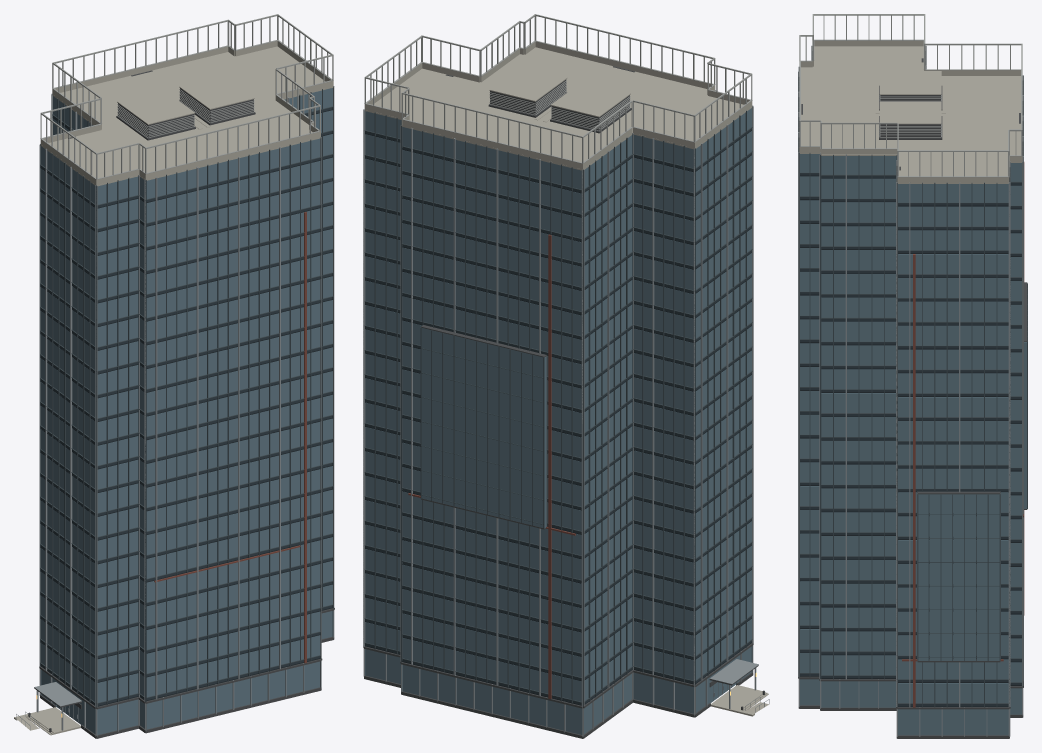
The model's file is building-t2-lod1.glb.
3 renders of one model, left to right at view 1: azimuth 30°, elevation 25°; view 2: azimuth 150°, elevation 25°; view 3: azimuth 270°, elevation 25°, orthographic. The views are drawn at different scales.
Visible parts, largest first — view 1: building-t2_MATERIAL_BATCH; view 2: building-t2_MATERIAL_BATCH; view 3: building-t2_MATERIAL_BATCH.
Boxes of the visible parts, x1=… form: building-t2_MATERIAL_BATCH: x1=14, y1=14, x2=334, y2=738; building-t2_MATERIAL_BATCH: x1=363, y1=14, x2=769, y2=738; building-t2_MATERIAL_BATCH: x1=798, y1=14, x2=1027, y2=738.
Size of the model in its own units: 64.51 by 111 by 39.33.
